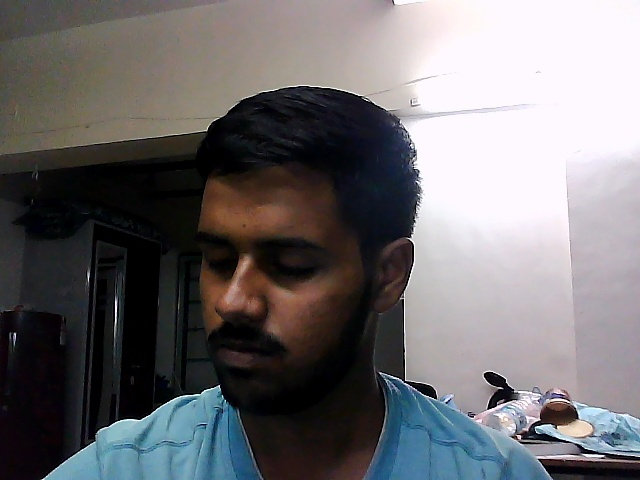drowsy: (180, 76, 437, 418)
